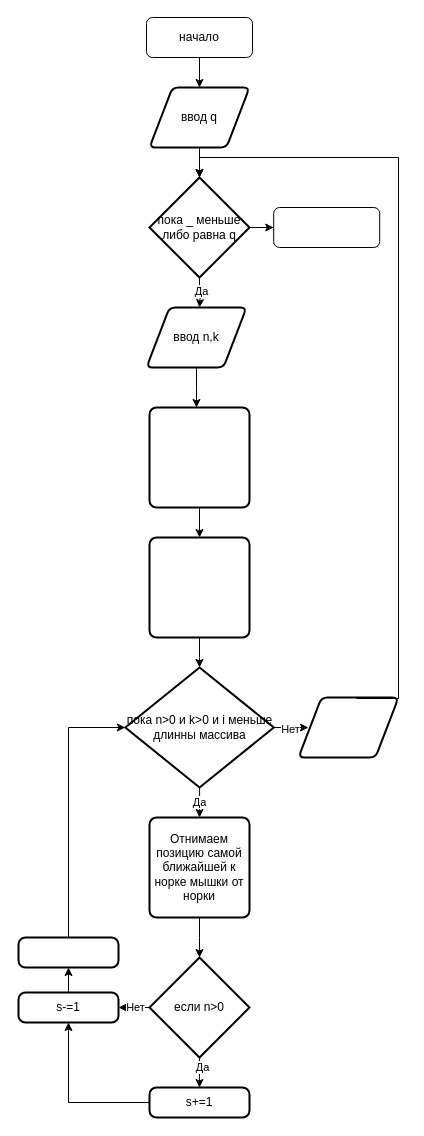
This 424x1136 diagram has some shape labels left out. The box of each missing label's shape, as (x1, y1, x2, y2) in pixels:
i+=1: (17, 936, 119, 968)
Вывод на экран s: (297, 696, 399, 758)
заполнение массива lst, введенными с клавиатуры элементами: (148, 406, 250, 508)
конец: (273, 206, 380, 248)
Сортировка массива по убыванию z = n: (148, 536, 250, 638)
